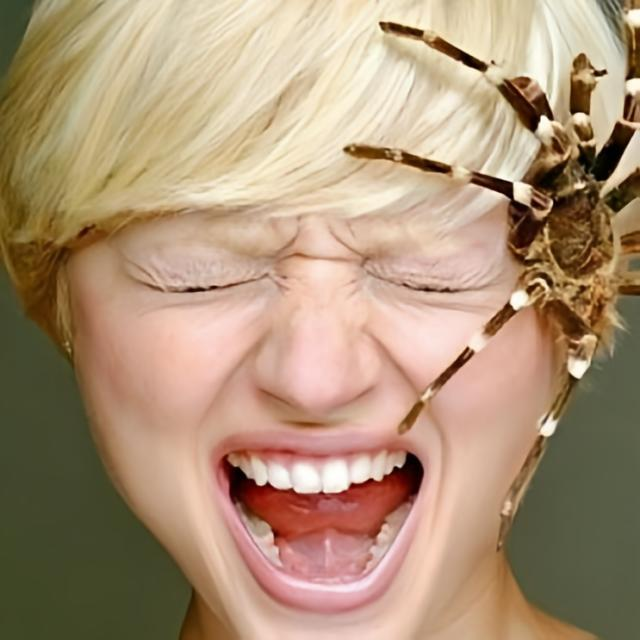fear: (84, 50, 554, 640)
